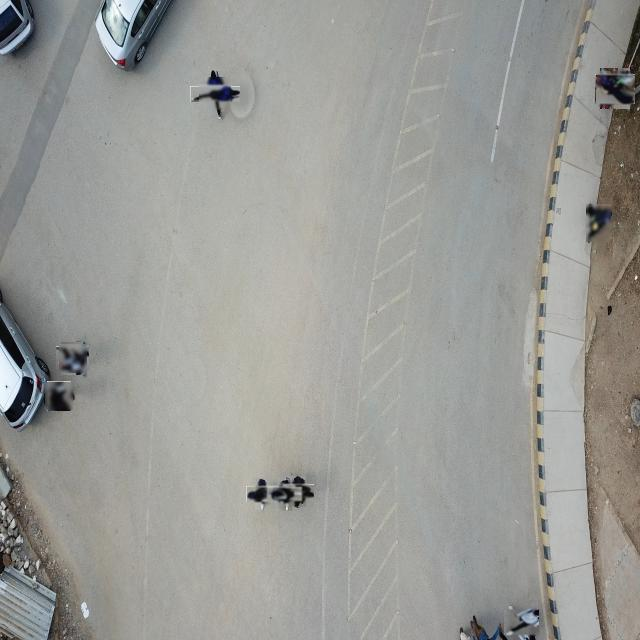Manusia: (597, 71, 634, 108), (199, 77, 232, 111), (506, 606, 538, 638), (586, 204, 612, 243), (59, 344, 88, 374), (45, 382, 74, 411), (250, 482, 275, 507), (273, 482, 298, 507), (288, 480, 311, 504)
